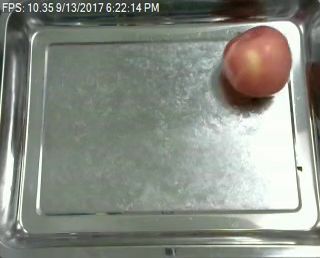Apple: (220, 24, 293, 104)
